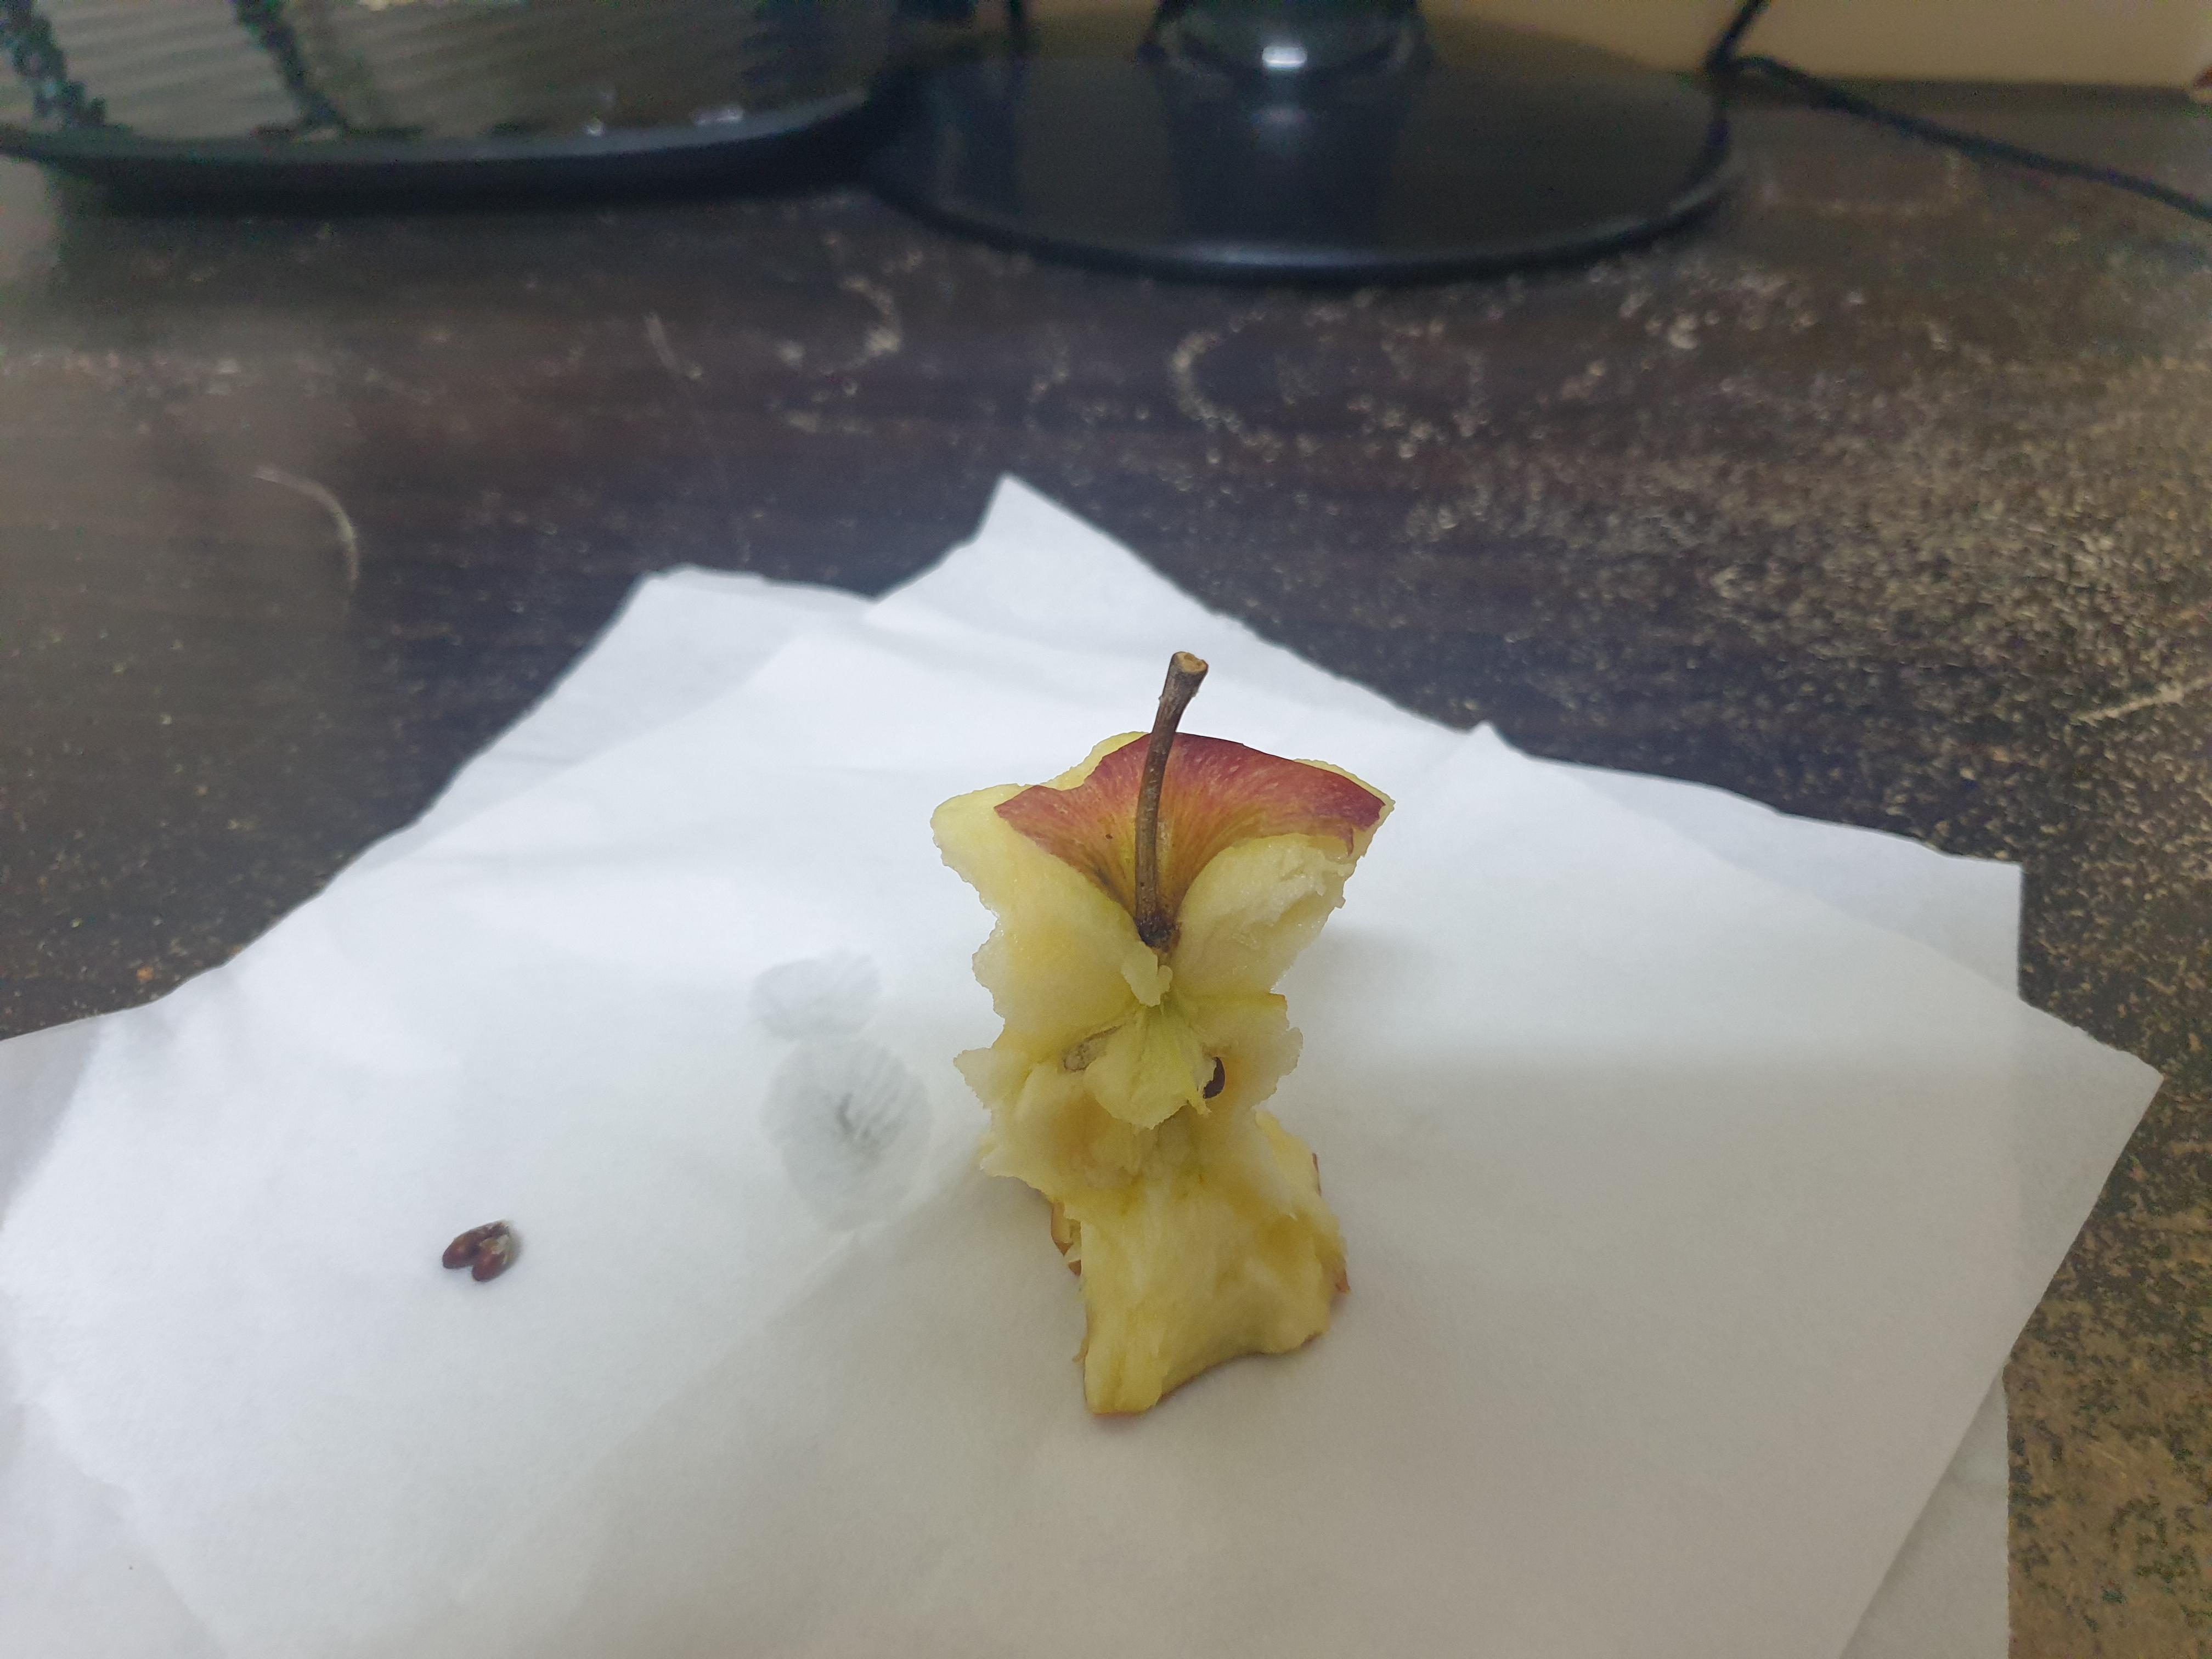Apple: (902, 634, 1468, 1424)
